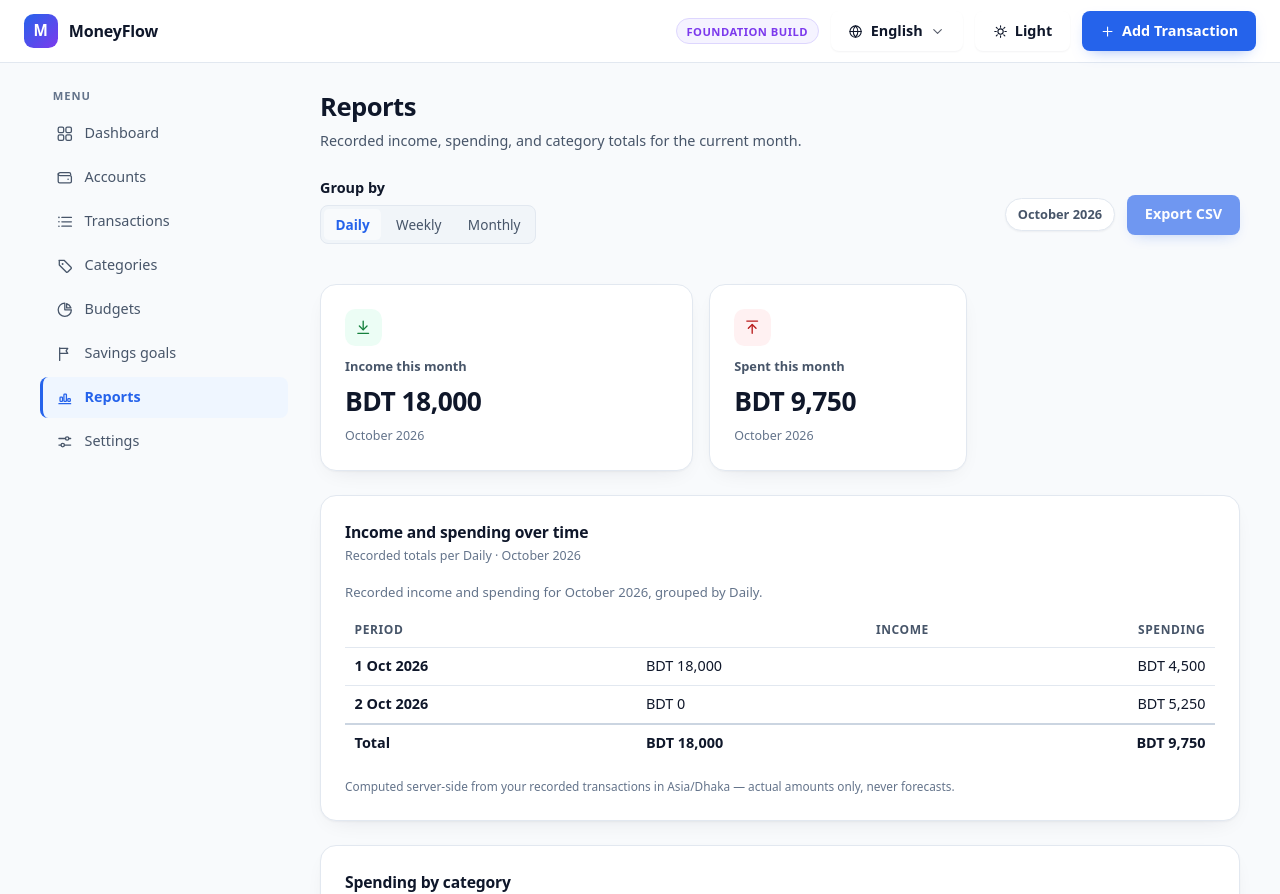
Test: reports route (wired to the IT-8 report endpoints) › re-queries the series when the granularity changes and labels it
Expected: the table is shown, [345,582,1215,761]
Click the button "Weekly" at [419, 224], box [385,209,453,240]
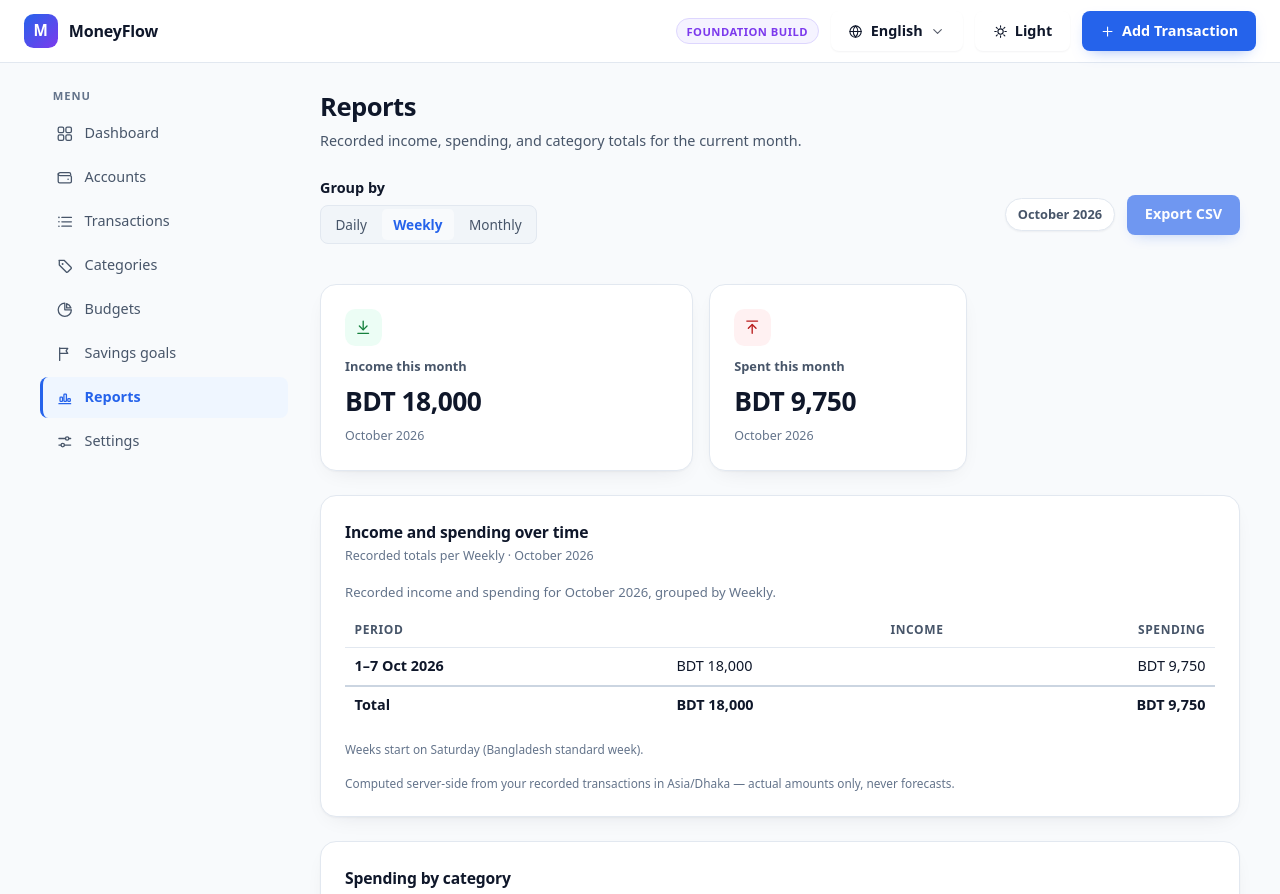
Expected: the text "Weeks start on Saturday (Bangladesh standard week)." is shown, [345,740,644,756]
Click the button "Monthly" at [495, 224], box [458,209,533,240]
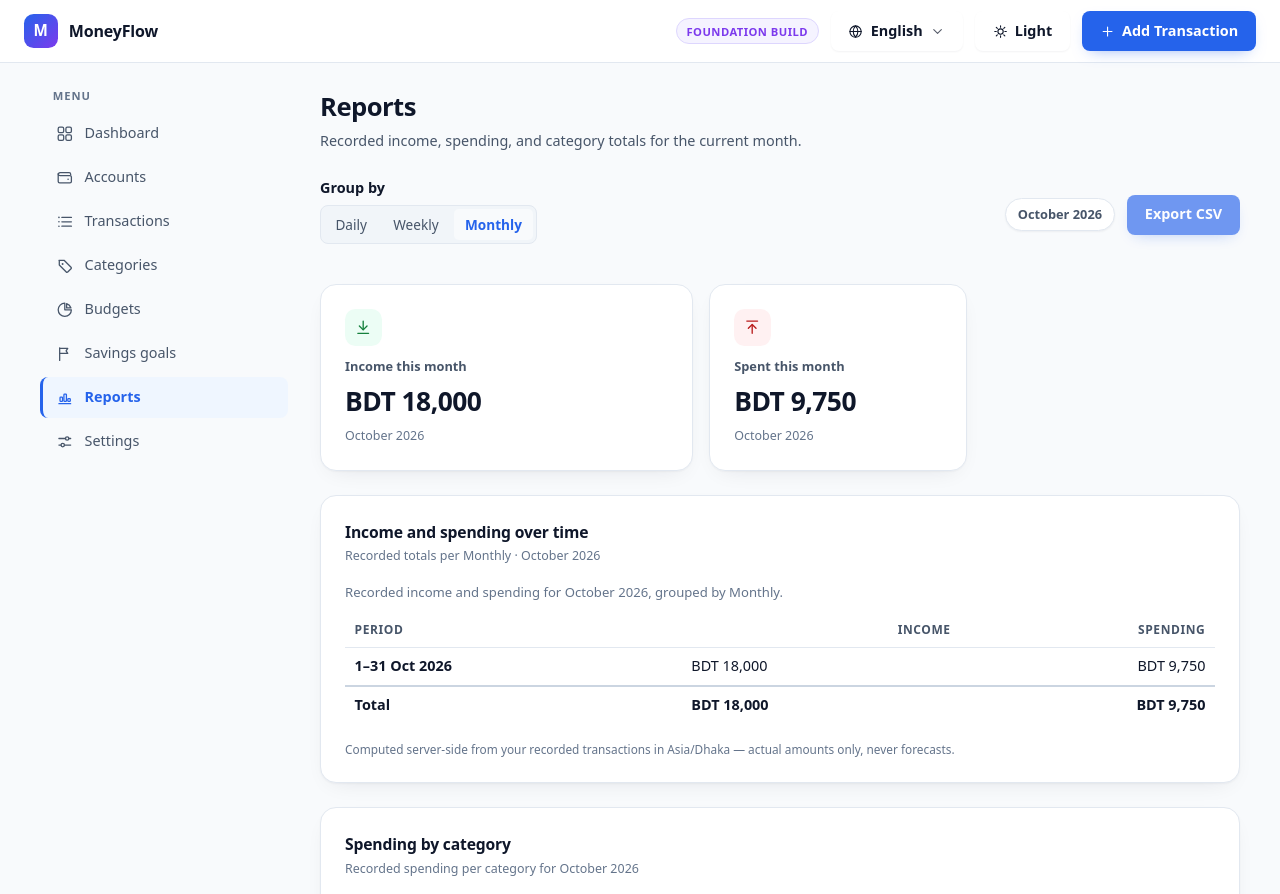
Expected: the text "Weeks start on Saturday" is gone
